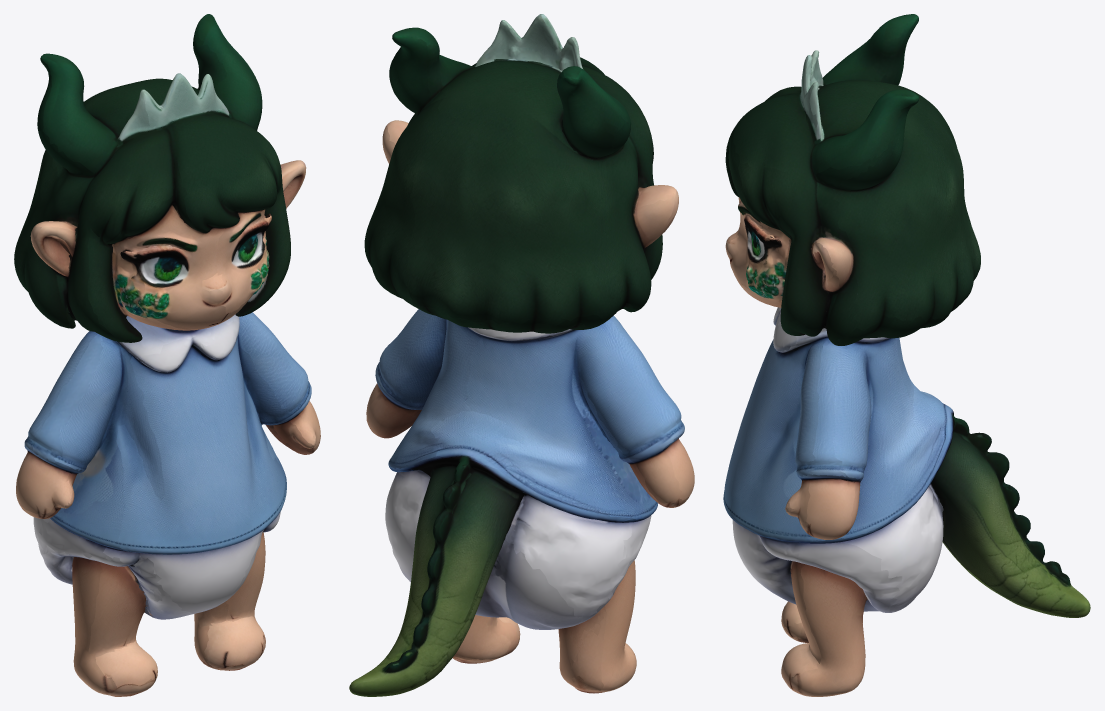
The model's file is jiradoll.glb.
3 views of the same model, side by side, from view 1: azimuth 30°, elevation 25°; view 2: azimuth 150°, elevation 25°; view 3: azimuth 270°, elevation 25° (orthographic). The views are drawn at different scales.
Visible parts, largest first — view 1: temp_mesh.ply; view 2: temp_mesh.ply; view 3: temp_mesh.ply.
Part boxes in pixels (left/top/right/bottom): temp_mesh.ply: left=14, top=14, right=320, bottom=696; temp_mesh.ply: left=349, top=14, right=694, bottom=696; temp_mesh.ply: left=723, top=14, right=1090, bottom=696.
Bounding box in the file's own units: 1 × 1.97 × 1.08.
1 material, 1 textured.
